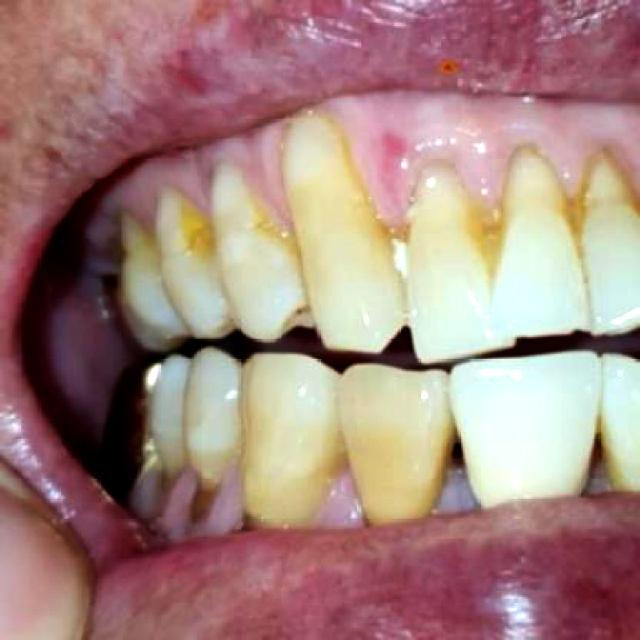Plaque: (137, 106, 418, 231), (136, 461, 244, 546)
